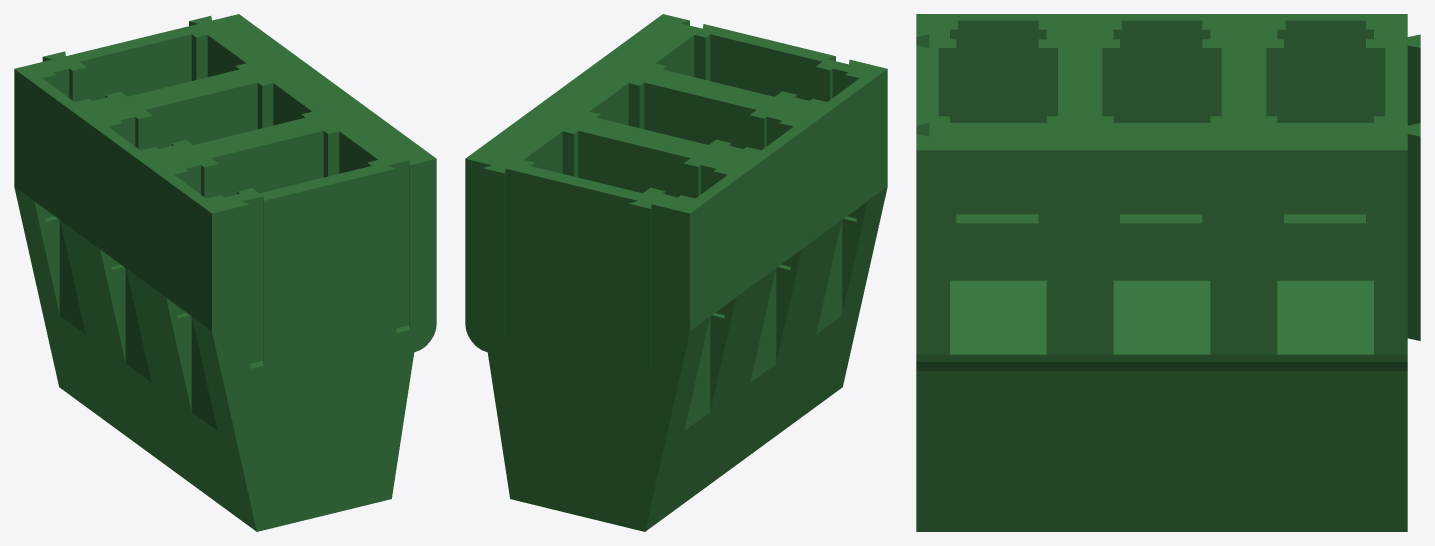
File: zatana_terra_base_vis_99.dae
3 views of the same model, side by side, from view 1: azimuth 30°, elevation 25°; view 2: azimuth 150°, elevation 25°; view 3: azimuth 270°, elevation 25° (orthographic). The views are drawn at different scales.
Parts seen in each view (by area): view 1: Node_00000231837455D0; view 2: Node_00000231837455D0; view 3: Node_00000231837455D0.
Boxes of the visible parts, left/top/right/bottom form: Node_00000231837455D0: left=14, top=14, right=436, bottom=531; Node_00000231837455D0: left=465, top=14, right=887, bottom=531; Node_00000231837455D0: left=916, top=14, right=1420, bottom=531.
Bounding box in the file's own units: 0.01 × 0.014 × 0.0156.
